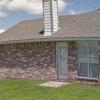Chimney: (33, 1, 77, 37)
